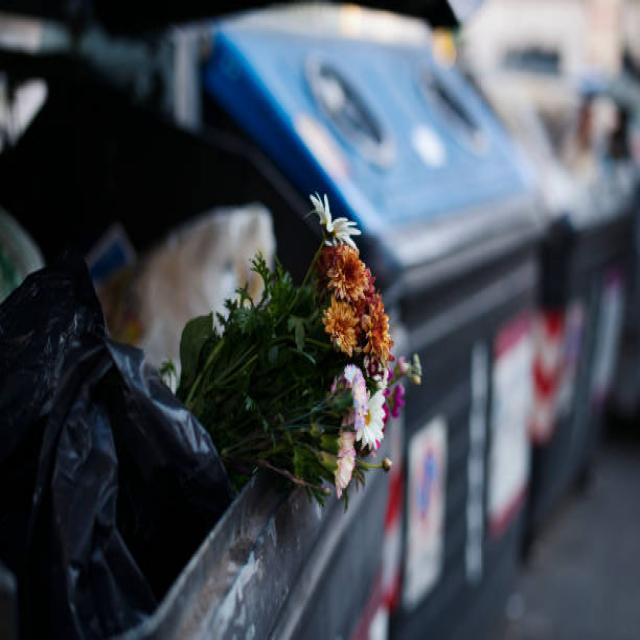trash: (17, 258, 389, 559)
